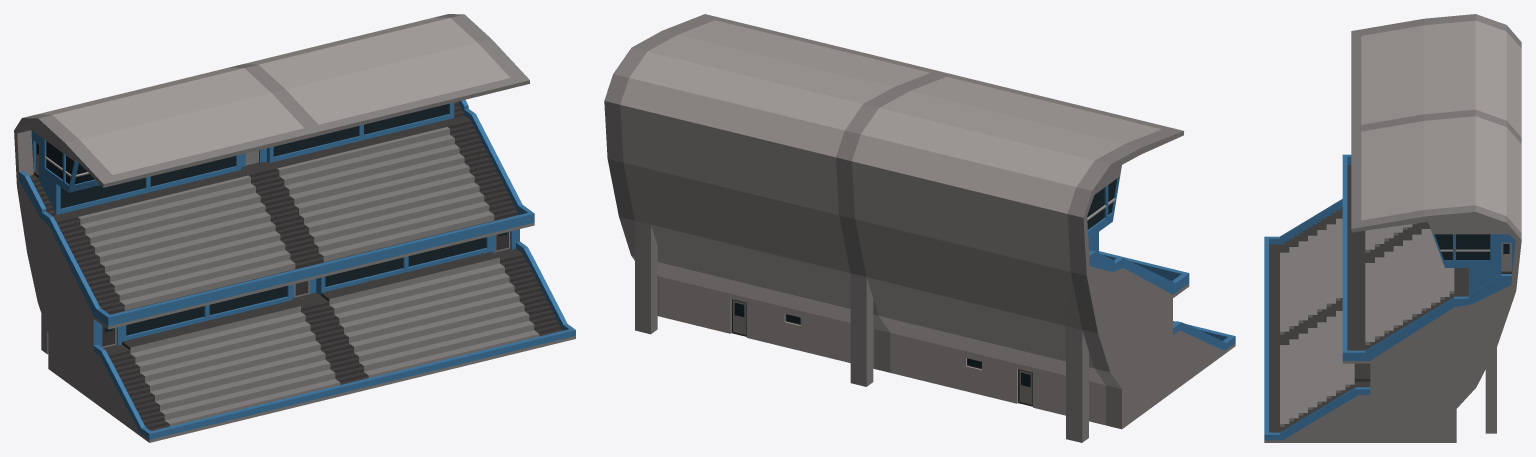
Rendered from tribune-streight-double.glb.
The picture shows the model from 3 angles, left to right: view 1: azimuth 30°, elevation 25°; view 2: azimuth 150°, elevation 25°; view 3: azimuth 270°, elevation 25°; orthographic projection. The views are drawn at different scales.
Parts seen in each view (by area): view 1: tribune-streight-double; view 2: tribune-streight-double; view 3: tribune-streight-double.
Part boxes in pixels (<box>): tribune-streight-double: <box>14,14,575,442</box>; tribune-streight-double: <box>604,14,1235,442</box>; tribune-streight-double: <box>1264,14,1521,442</box>.
Size of the model in its own units: 30 by 16.34 by 16.5.
1 material, 1 textured.
